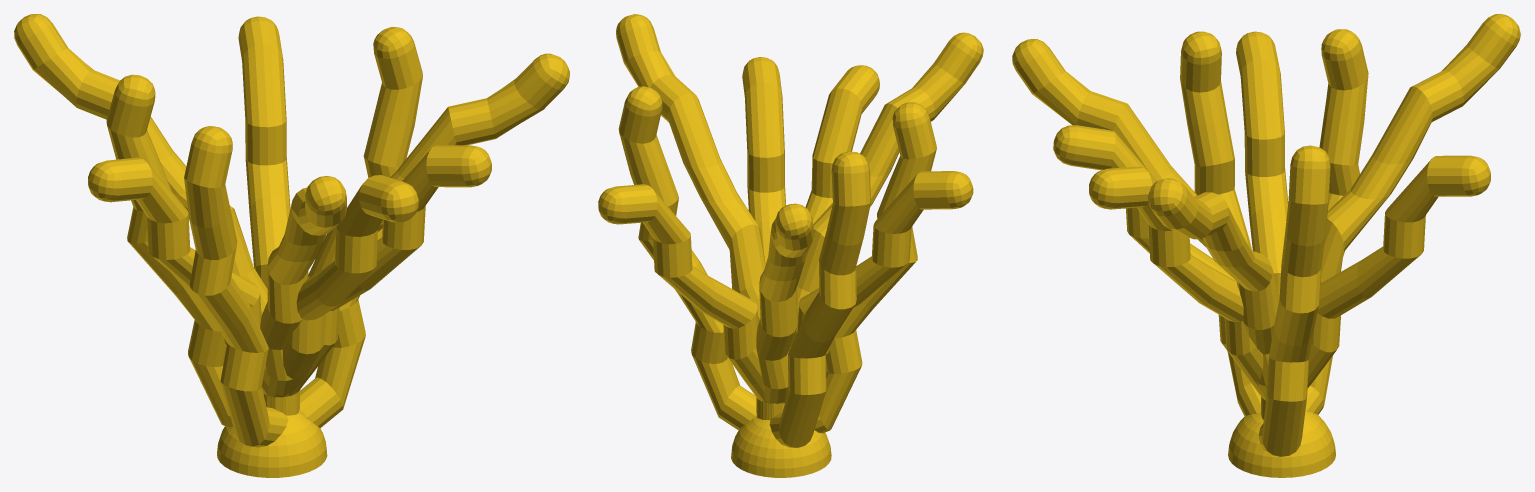
3 views of the same model, side by side, from view 1: azimuth 30°, elevation 25°; view 2: azimuth 150°, elevation 25°; view 3: azimuth 270°, elevation 25° (orthographic). The views are drawn at different scales.
Parts seen in each view (by area): view 1: Cube.005; view 2: Cube.005; view 3: Cube.005.
Part boxes in pixels (x1,y1,x2,y2): Cube.005: (14,14,569,477); Cube.005: (598,14,983,477); Cube.005: (1012,14,1520,477).
Bounding box in the file's own units: 1.07 × 0.9181 × 1.12.
